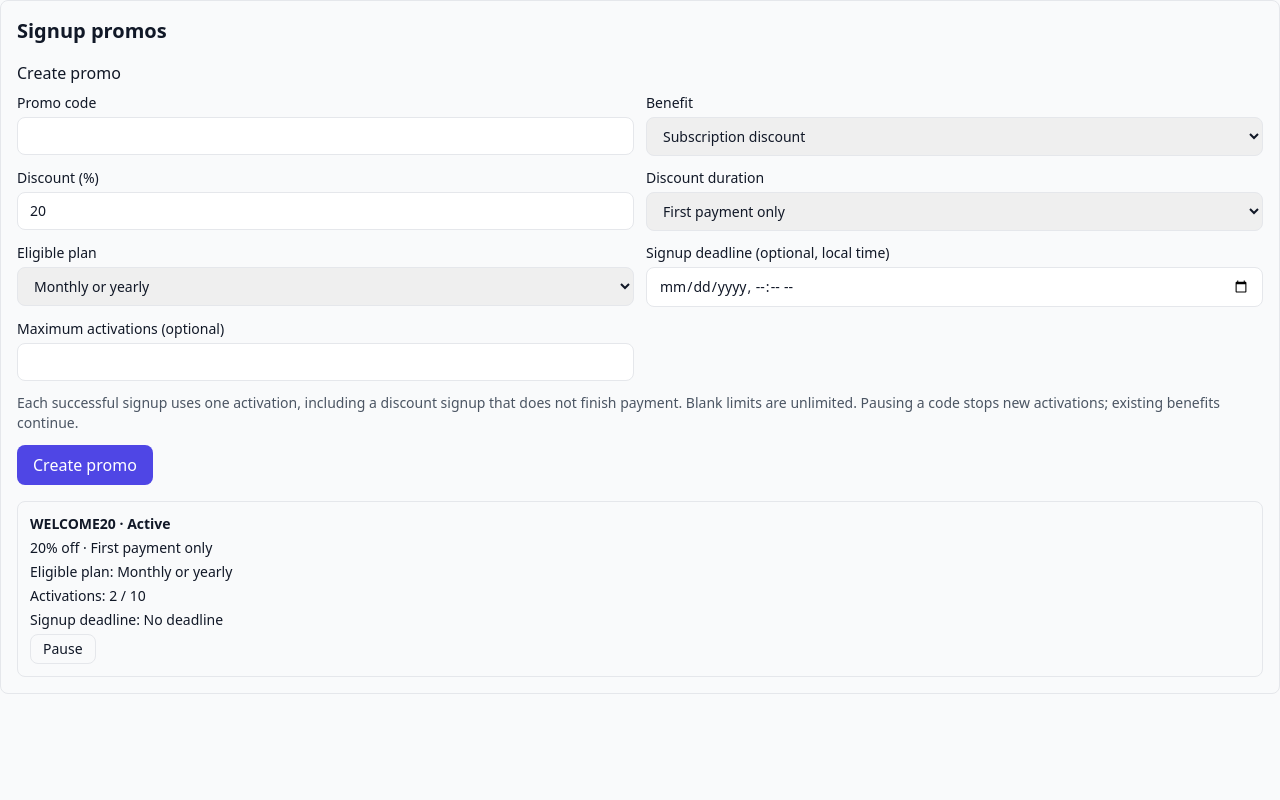
Test: shows a creation error without clearing the entered code
Type "welcome20" into the field labelled "Promo code" at [326, 136], box [17,117,634,155]
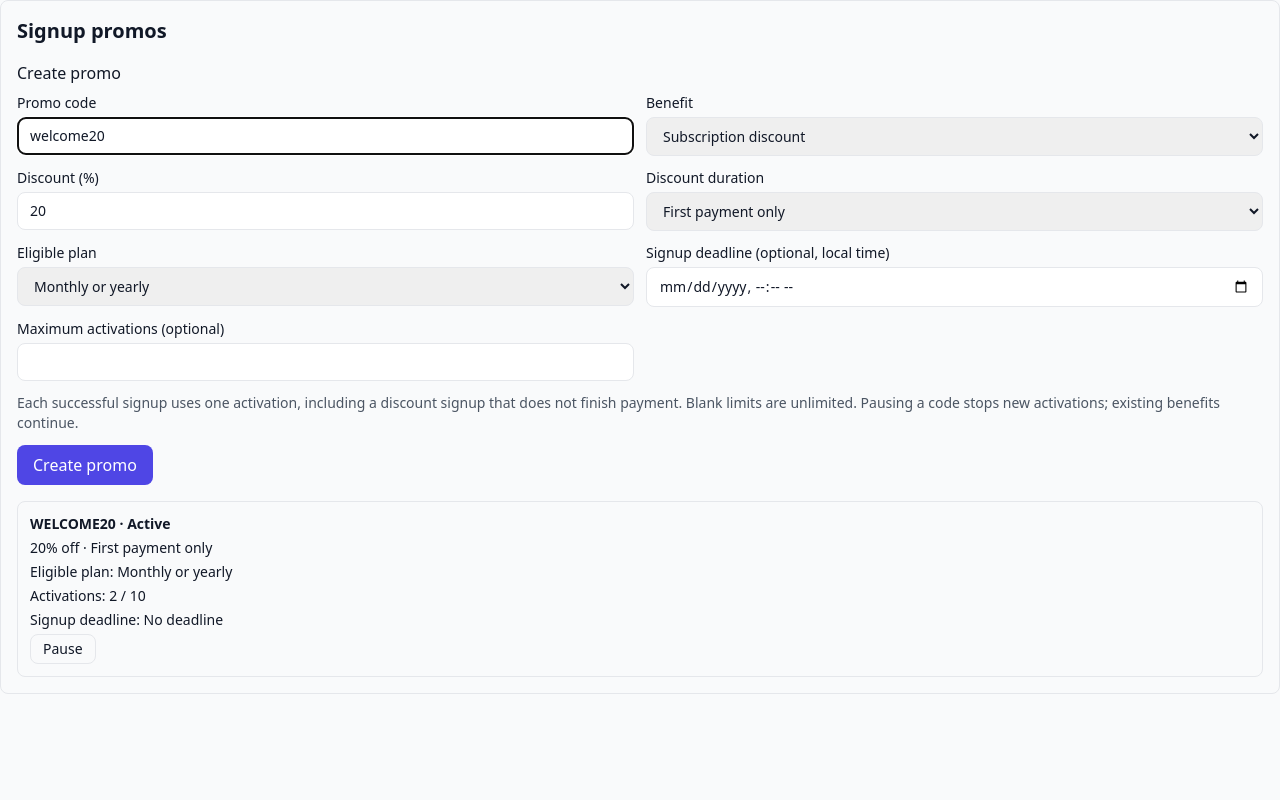
Click the button "Create promo" at [85, 465], box [17,445,153,485]
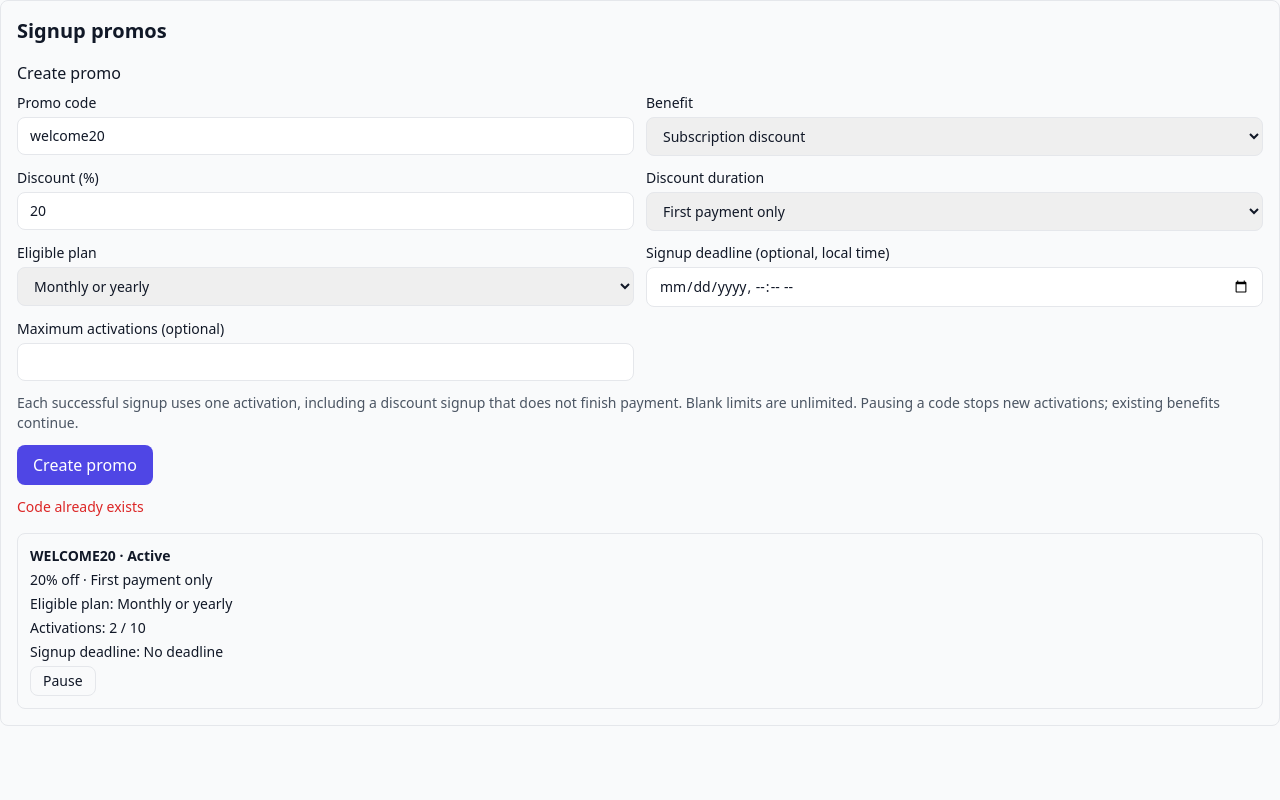
Expected: the message reads "Code already exists", [17,497,144,516]
